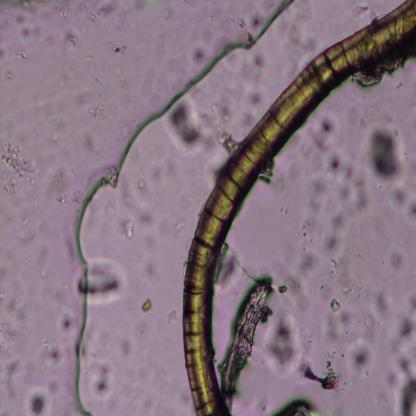Background material: (310, 148, 368, 218), (66, 258, 127, 316), (268, 310, 308, 376), (0, 140, 39, 194), (200, 104, 240, 156), (389, 305, 416, 365), (90, 357, 122, 407), (367, 125, 397, 178), (171, 106, 203, 152), (0, 303, 14, 405), (308, 360, 346, 396), (7, 0, 45, 36), (382, 188, 416, 223), (215, 8, 251, 40), (277, 268, 309, 303), (89, 0, 128, 26), (332, 238, 355, 280), (316, 111, 340, 150), (30, 382, 56, 416), (353, 342, 377, 374), (397, 377, 416, 416), (185, 39, 211, 67), (104, 31, 130, 59), (50, 166, 68, 204), (329, 312, 357, 336), (272, 400, 314, 416), (133, 258, 163, 278), (338, 278, 364, 300), (298, 254, 324, 275), (321, 225, 340, 252), (117, 211, 133, 242), (59, 24, 79, 48), (85, 102, 108, 122), (372, 292, 390, 316), (47, 344, 65, 368), (352, 0, 374, 18), (58, 314, 77, 333), (116, 335, 132, 357), (84, 131, 98, 155), (137, 210, 153, 229), (264, 164, 276, 188), (105, 164, 118, 185), (80, 168, 96, 185), (130, 325, 146, 341), (364, 314, 374, 339), (14, 45, 27, 64), (249, 52, 261, 72), (172, 218, 188, 233), (165, 305, 179, 322), (248, 12, 262, 28), (249, 94, 264, 108), (318, 282, 329, 300), (89, 74, 103, 88), (36, 266, 50, 279), (324, 348, 336, 363), (67, 165, 77, 179), (144, 300, 154, 314), (302, 219, 314, 230), (138, 176, 146, 192), (280, 204, 290, 214), (332, 303, 341, 314), (122, 124, 129, 138), (119, 79, 128, 89), (50, 133, 60, 142), (0, 45, 6, 58), (8, 68, 14, 80), (87, 50, 94, 60), (23, 219, 32, 226), (57, 80, 64, 88), (36, 119, 42, 127), (301, 233, 307, 237)
Cellulose filter fibre: (223, 275, 274, 401)
Microfibre: (180, 0, 416, 416)
